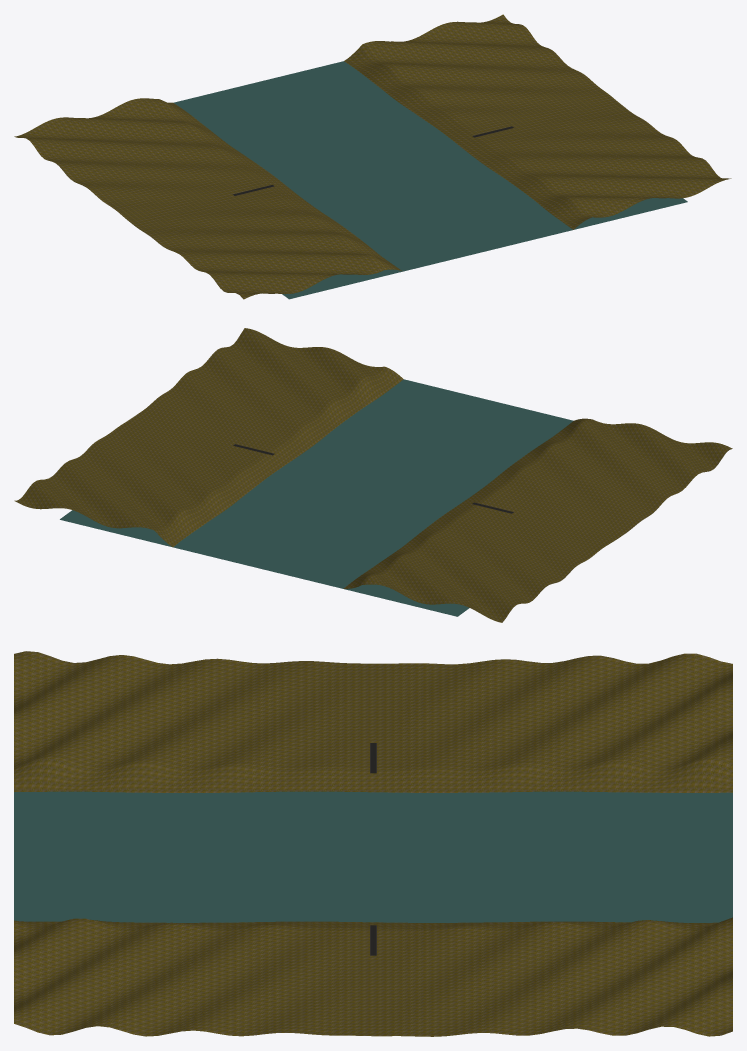
File: suspension_low.glb
3 renders of one model, top to bottom at view 1: azimuth 30°, elevation 25°; view 2: azimuth 150°, elevation 25°; view 3: azimuth 270°, elevation 25°, orthographic. The views are drawn at different scales.
Parts seen in each view (by area): view 1: RiverSurface, Riverbank_1, Riverbank_-1; view 2: RiverSurface, Riverbank_1, Riverbank_-1; view 3: Riverbank_-1, RiverSurface, Riverbank_1.
Boxes of the visible parts, x1,y1,x2,y2 form: RiverSurface: [173, 61, 687, 299]; Riverbank_1: [344, 14, 731, 229]; Riverbank_-1: [14, 98, 402, 299]; RiverSurface: [60, 379, 573, 616]; Riverbank_1: [14, 328, 403, 546]; Riverbank_-1: [343, 418, 732, 622]; Riverbank_-1: [14, 651, 732, 792]; RiverSurface: [14, 791, 732, 922]; Riverbank_1: [14, 917, 732, 1036].
Size of the model in its own units: 4483 by 113 by 3644.
4 materials, 3 textured.
